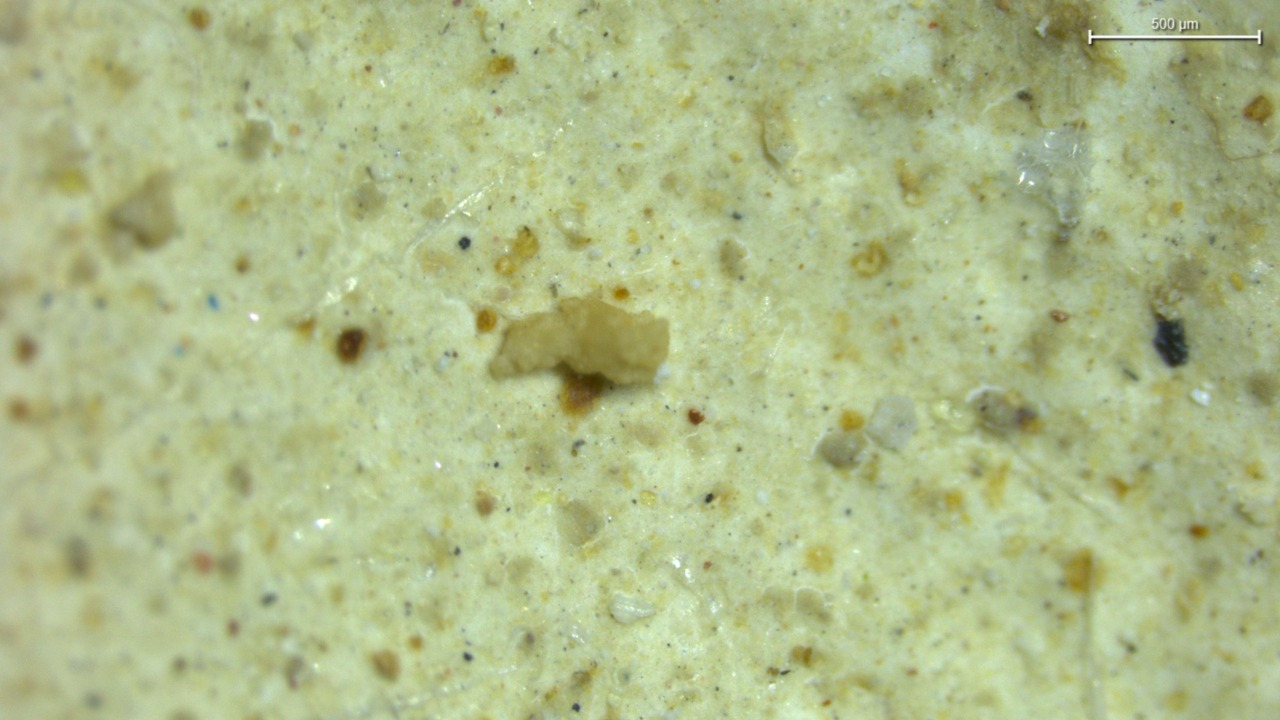microplastic_fragment: (490, 299, 669, 384), (1015, 127, 1088, 241), (865, 396, 917, 448), (609, 591, 655, 624)
